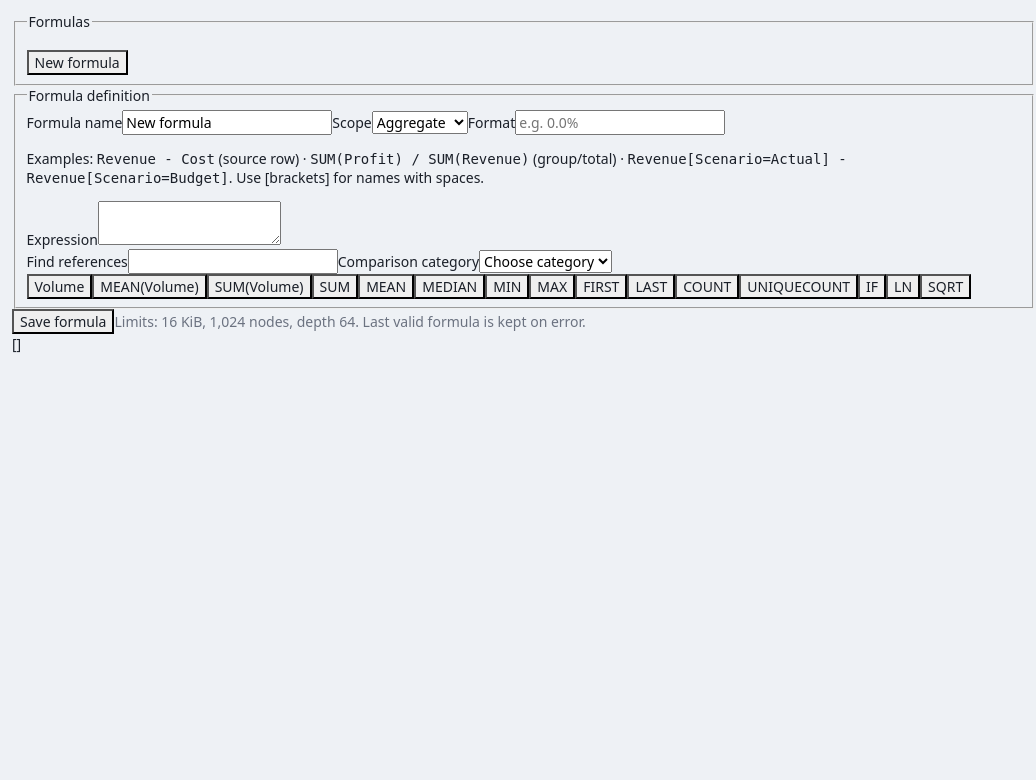
Test: serializes canonical member tokens while keeping observed type and proof
This screenshot has width=1036, height=780.
Type "[Volume — Average]" into the text box labelled "Expression" at (189, 222), box [98,200,281,244]
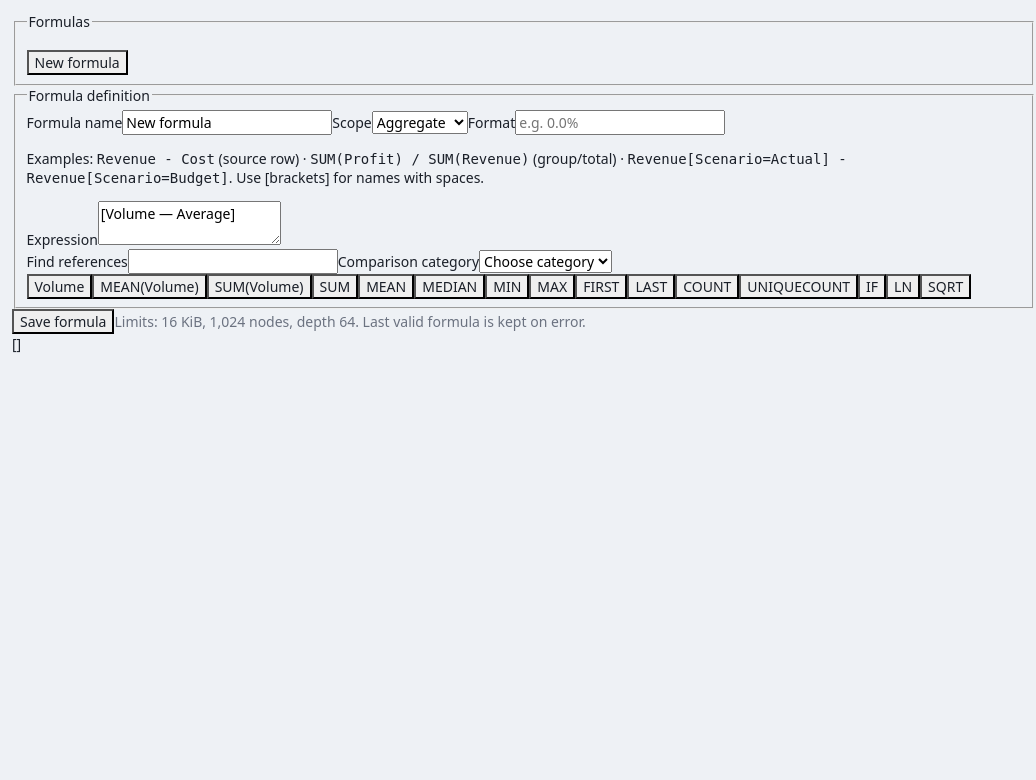
Select "Scenario (native)" in the dropdown labelled "Comparison category" at (546, 261), box [479,250,612,272]
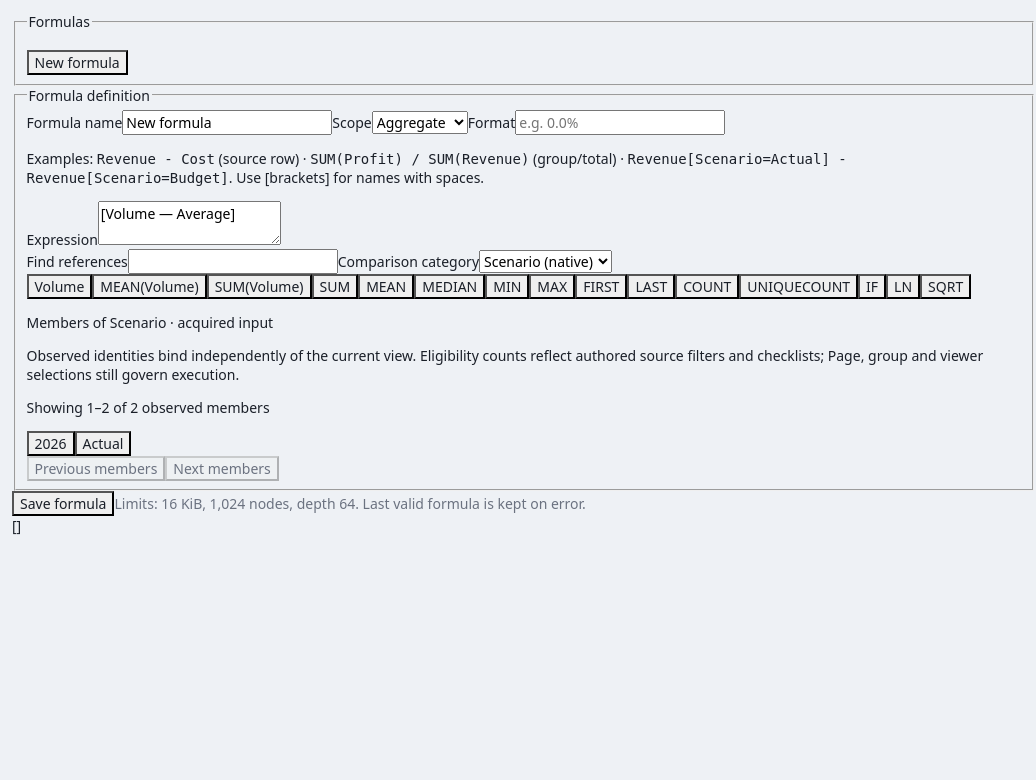
Click the button with aria-label "Insert Actual" at (103, 443), box [74,430,131,456]
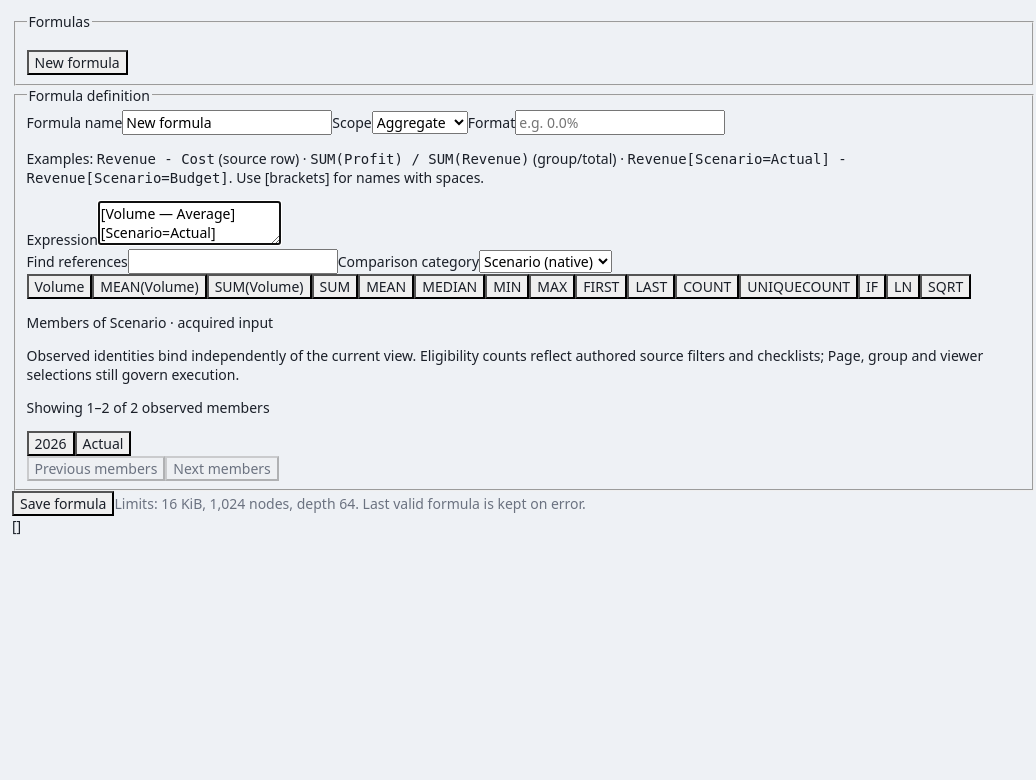
expect the text box labelled "Expression" holds "[Volume — Average][Scenario=Actual]": met, box [98,200,281,244]
Click the button "Save formula" at (63, 504), box [12,491,114,516]
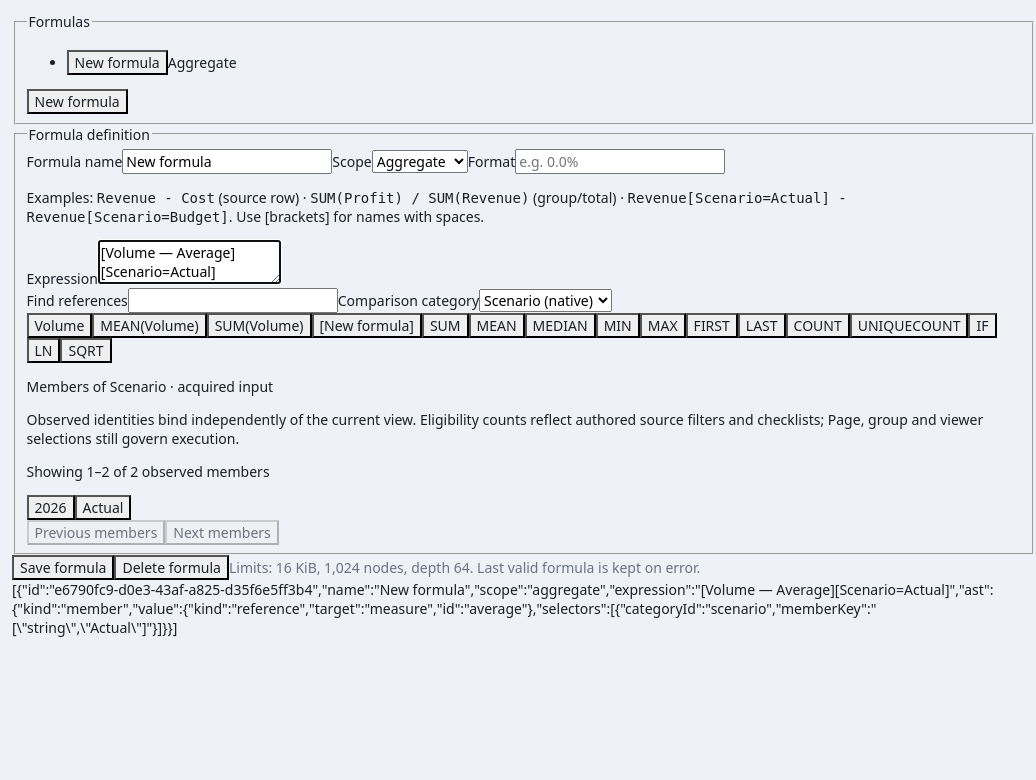
expect the text named "Saved model" shows "Actual": met, box [12,580,994,637]
